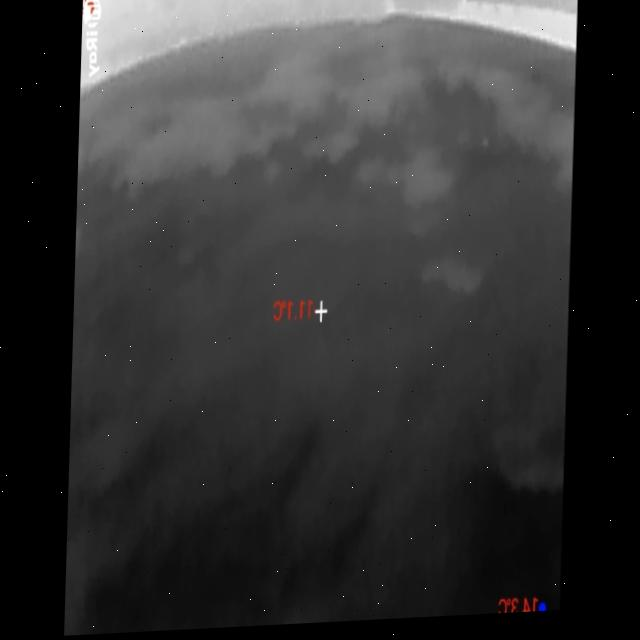drone: (481, 140, 491, 157)
